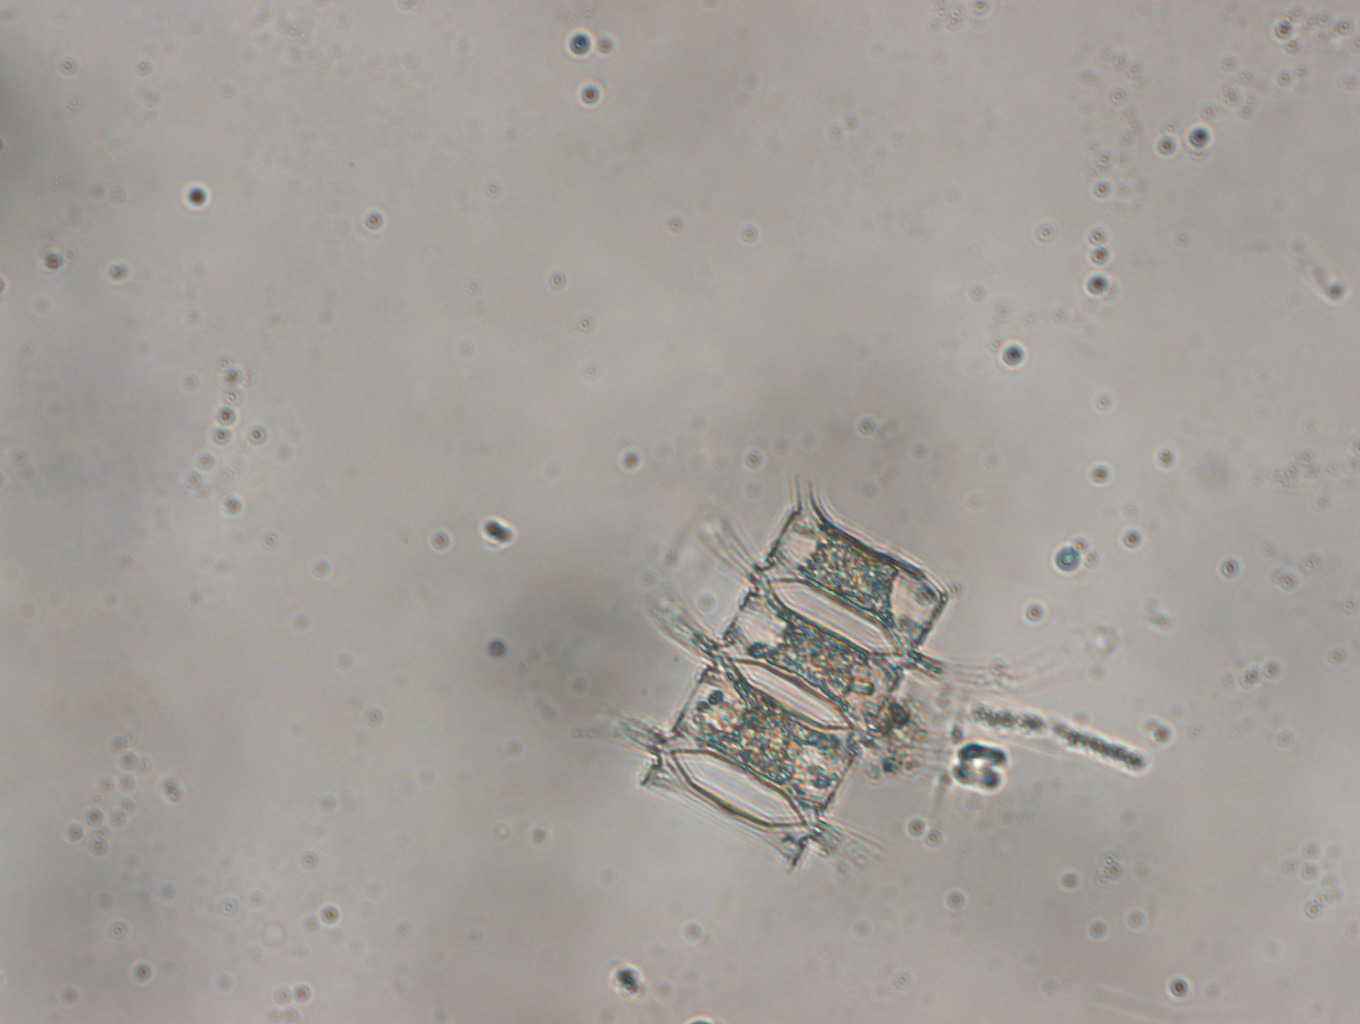chaetoceros: (603, 480, 1057, 877)
